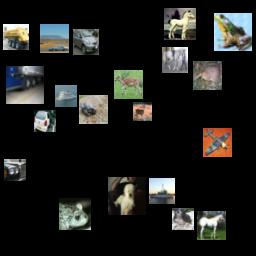airplane: (203, 128, 232, 157)
automobile: (40, 24, 69, 53), (73, 29, 99, 55), (34, 110, 56, 132), (4, 159, 26, 181)
bird: (193, 61, 222, 90)
deer: (114, 70, 143, 99), (133, 102, 152, 121)
dog: (108, 177, 146, 215), (172, 208, 194, 230)
frog: (214, 13, 252, 51), (59, 198, 91, 230), (79, 95, 108, 124)
ship: (149, 178, 175, 204), (55, 85, 77, 107)
truck: (6, 66, 44, 104), (3, 24, 29, 50)
